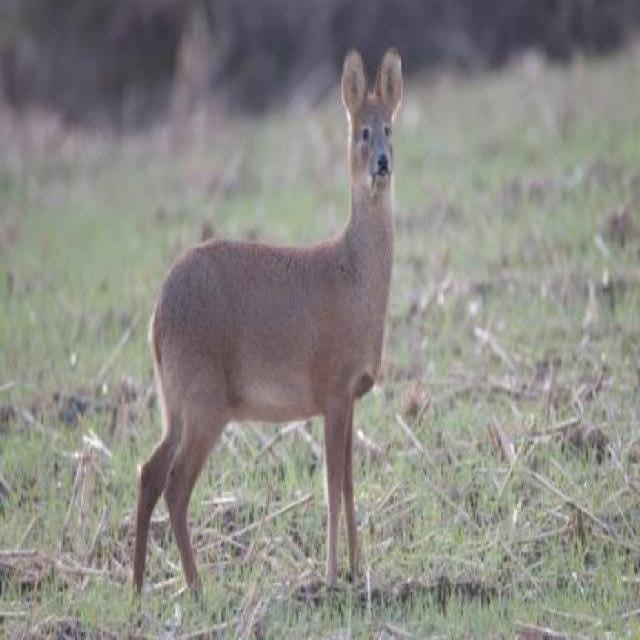deer: (119, 47, 410, 606)
